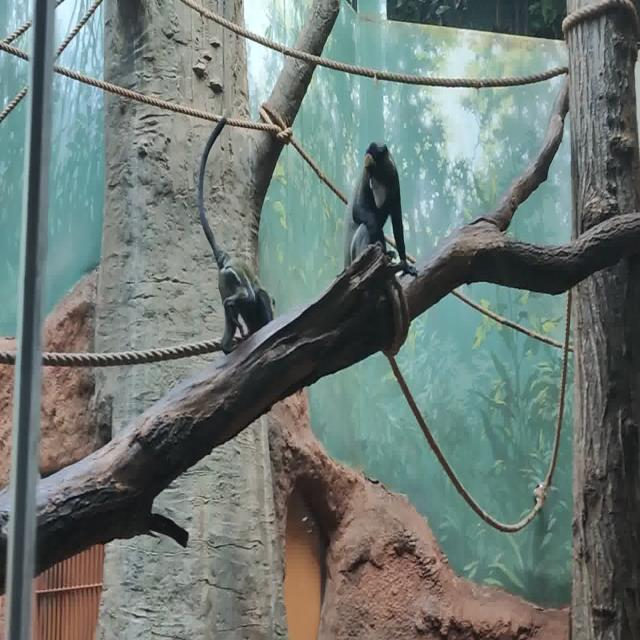monkey: (199, 117, 275, 354), (344, 141, 419, 277)
